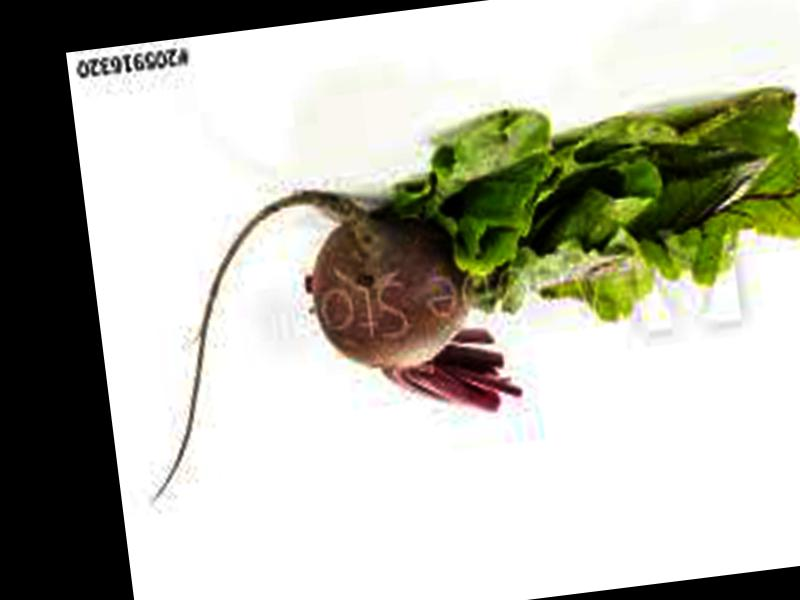Beet: (112, 166, 534, 504)
